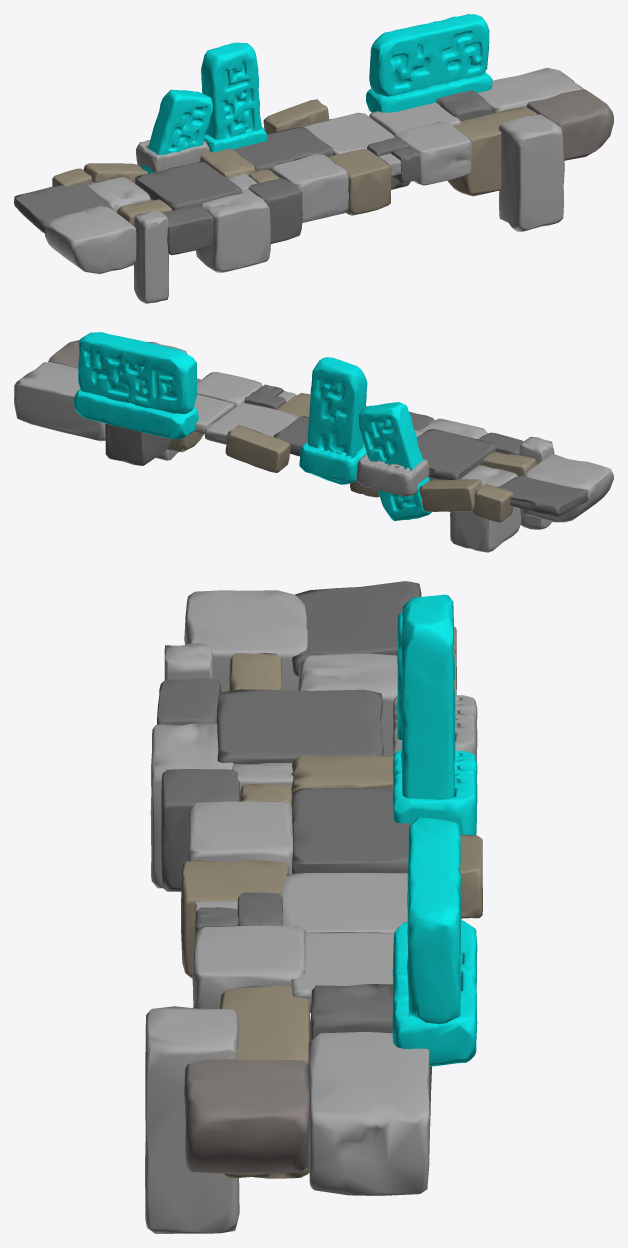
The model's file is PF_Platform_opt.fbx.
The picture shows the model from 3 angles, top to bottom: view 1: azimuth 30°, elevation 25°; view 2: azimuth 150°, elevation 25°; view 3: azimuth 270°, elevation 25°; orthographic projection. The views are drawn at different scales.
Parts seen in each view (by area): view 1: PF_Platform_opt; view 2: PF_Platform_opt; view 3: PF_Platform_opt.
Part boxes in pixels (x1,y1,x2,y2): PF_Platform_opt: [14, 14, 613, 303]; PF_Platform_opt: [14, 332, 613, 552]; PF_Platform_opt: [145, 581, 482, 1233].
Bounding box in the file's own units: 1451 × 478 × 390.
